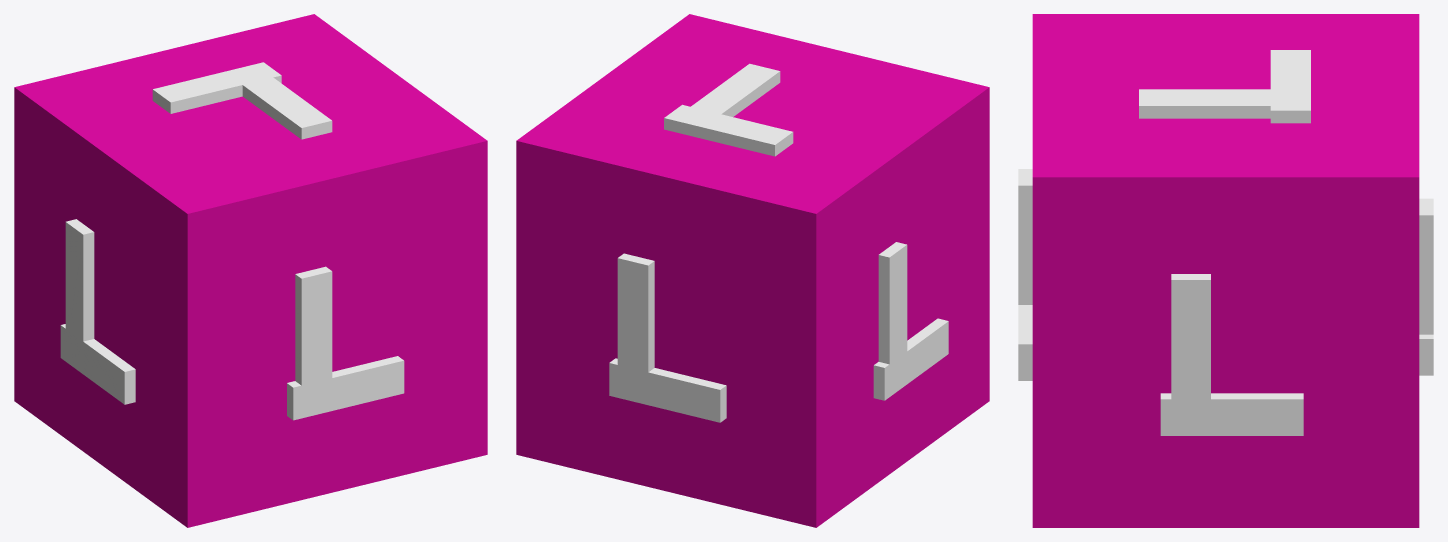
The model's file is DISTRACTOR_12.glb.
3 renders of one model, left to right at view 1: azimuth 30°, elevation 25°; view 2: azimuth 150°, elevation 25°; view 3: azimuth 270°, elevation 25°, orthographic. The views are drawn at different scales.
Visible parts, largest first — view 1: DISTRACTOR_HIGH_12; view 2: DISTRACTOR_HIGH_12; view 3: DISTRACTOR_HIGH_12.
Part boxes in pixels (box(x1,y1,x2,y2)): DISTRACTOR_HIGH_12: box(14, 14, 487, 527); DISTRACTOR_HIGH_12: box(516, 14, 989, 527); DISTRACTOR_HIGH_12: box(1018, 14, 1433, 527).
Size of the model in its own units: 2.15 by 2.15 by 2.15.
